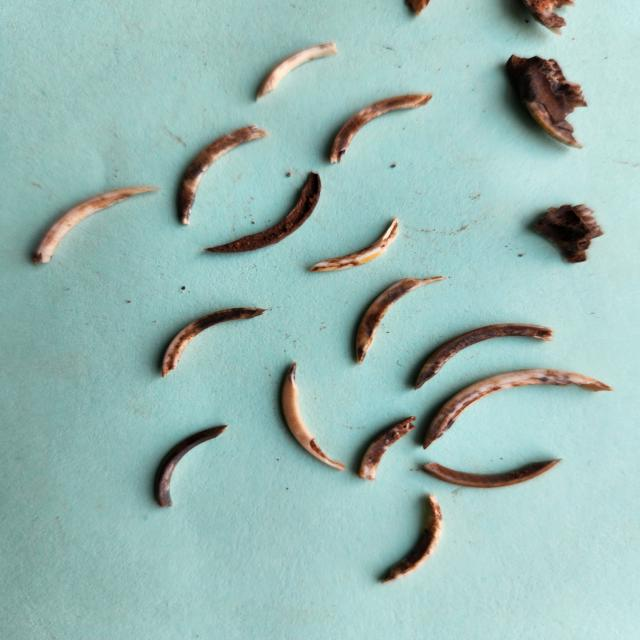fossil: (419, 366, 621, 454), (23, 174, 165, 272), (488, 45, 609, 156), (166, 120, 283, 233), (196, 168, 329, 260), (406, 320, 558, 395), (314, 82, 437, 169), (346, 274, 454, 368), (155, 303, 277, 383), (277, 357, 351, 474), (240, 33, 354, 107), (518, 193, 618, 274), (149, 422, 239, 512), (372, 490, 454, 587), (297, 213, 408, 276), (418, 453, 568, 494), (354, 413, 418, 485), (511, 0, 579, 38), (391, 0, 429, 22)
